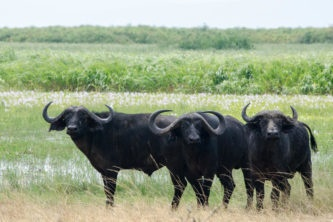buffalo: (41, 98, 205, 214), (147, 106, 259, 211), (239, 100, 323, 216)
